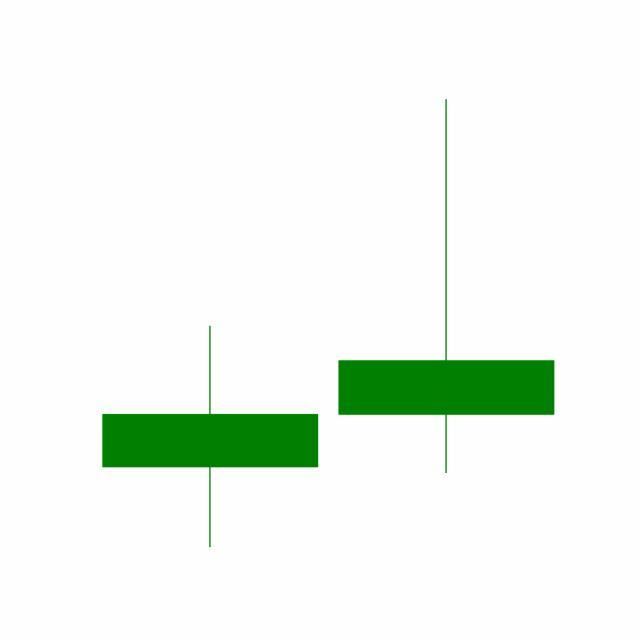Spinning Top: (328, 96, 566, 478)
